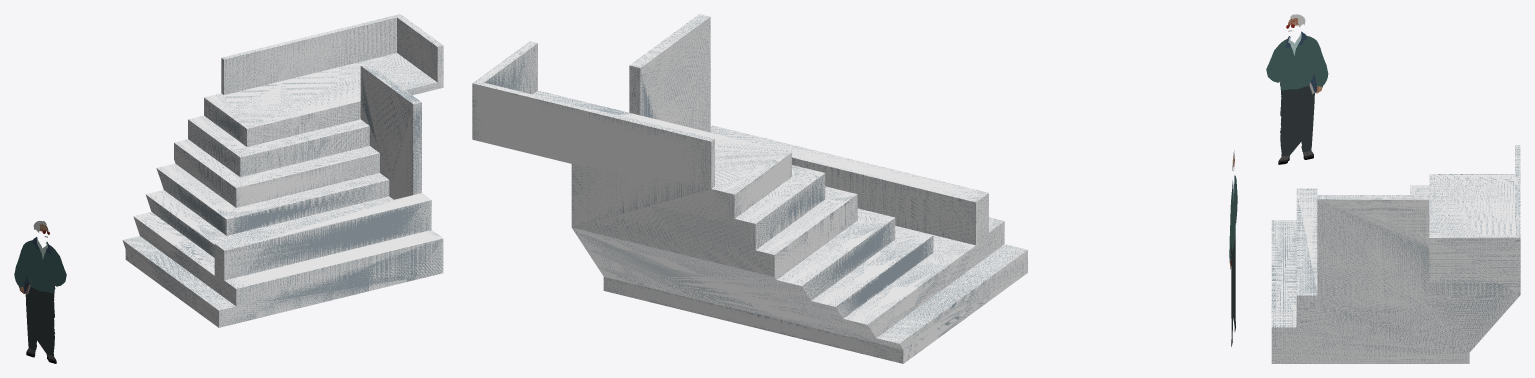
File: 1erBancoAnfiteatro3d.dae
3 views of the same model, side by side, from view 1: azimuth 30°, elevation 25°; view 2: azimuth 150°, elevation 25°; view 3: azimuth 270°, elevation 25° (orthographic). The views are drawn at different scales.
Parts seen in each view (by area): view 1: SketchUp, instance_0 (×2); view 2: SketchUp; view 3: SketchUp, instance_0 (×2).
Boxes of the visible parts, x1,y1,x2,y2 form: SketchUp: (122, 14, 443, 327); instance_0 (×2): (14, 240, 66, 355); SketchUp: (472, 14, 1027, 363); SketchUp: (1271, 145, 1520, 363); instance_0 (×2): (1266, 35, 1328, 156).
Size of the model in its own units: 238 by 104 by 74.02.
